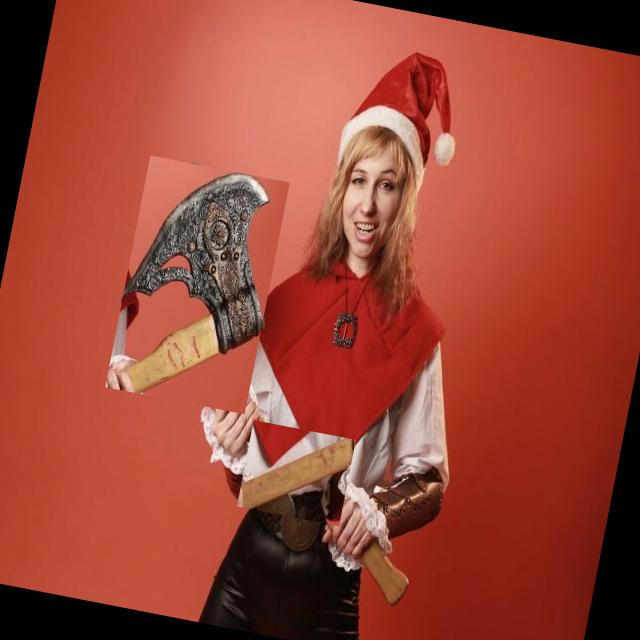Axe: (124, 174, 268, 393), (242, 438, 355, 509), (361, 545, 407, 604)
